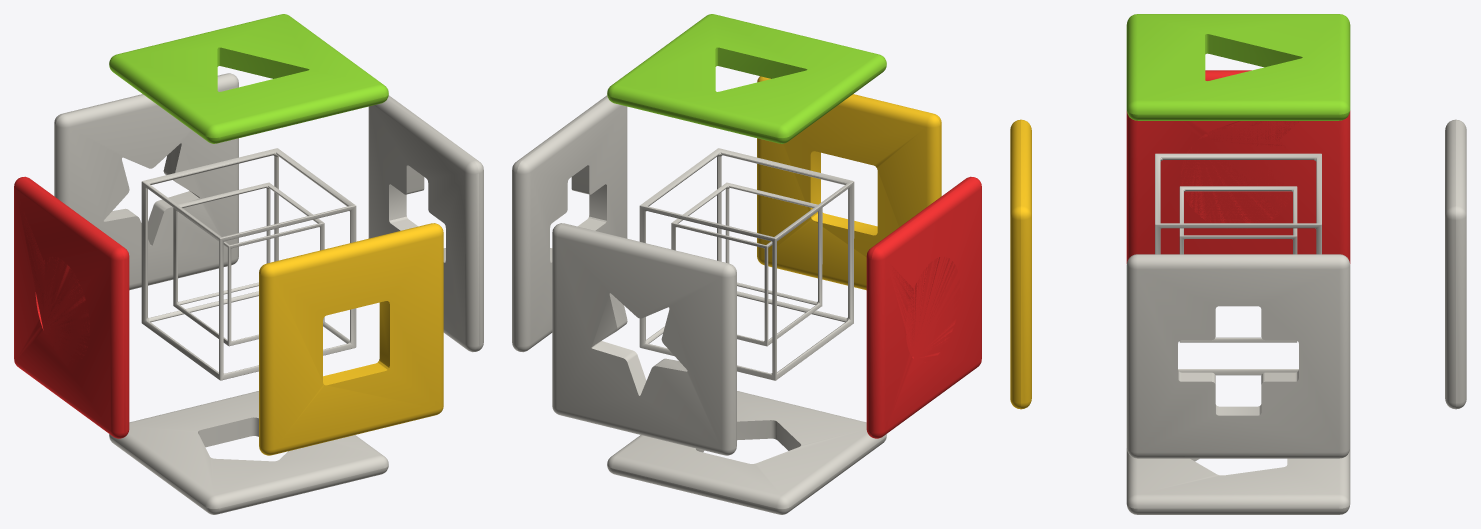
The model's file is Finalholowcube.fbx.
The picture shows the model from 3 angles, left to right: view 1: azimuth 30°, elevation 25°; view 2: azimuth 150°, elevation 25°; view 3: azimuth 270°, elevation 25°; orthographic projection. The views are drawn at different scales.
Visible parts, largest first — view 1: Panel_Yellow_Square, Panel_Red_Circle, Panel_Back_Star, Panel_Green_Triangle, Panel_Grey_Pentagon, Panel_Right_Cross, Inner_Framework, Inner_Frame_Secondary; view 2: Panel_Back_Star, Panel_Red_Circle, Panel_Green_Triangle, Panel_Yellow_Square, Panel_Grey_Pentagon, Panel_Right_Cross, Inner_Framework, Inner_Frame_Secondary; view 3: Panel_Right_Cross, Panel_Red_Circle, Panel_Green_Triangle, Panel_Grey_Pentagon, Panel_Yellow_Square, Panel_Back_Star, Inner_Framework, Inner_Frame_Secondary.
Boxes of the visible parts, box(x1,y1,x2,y2) form: Panel_Yellow_Square: box(259, 223, 443, 455); Panel_Red_Circle: box(14, 176, 129, 438); Panel_Back_Star: box(54, 73, 238, 290); Panel_Green_Triangle: box(109, 14, 388, 143); Panel_Grey_Pentagon: box(109, 391, 388, 514); Panel_Right_Cross: box(368, 95, 483, 352); Inner_Framework: box(141, 148, 356, 380); Inner_Frame_Secondary: box(173, 182, 324, 346); Panel_Back_Star: box(552, 223, 736, 455); Panel_Red_Circle: box(866, 176, 981, 438); Panel_Green_Triangle: box(607, 14, 886, 143); Panel_Yellow_Square: box(757, 76, 941, 290); Panel_Grey_Pentagon: box(607, 391, 886, 514); Panel_Right_Cross: box(512, 95, 627, 352); Inner_Framework: box(639, 148, 854, 380); Inner_Frame_Secondary: box(671, 182, 822, 346); Panel_Right_Cross: box(1126, 254, 1350, 458); Panel_Red_Circle: box(1126, 70, 1350, 263); Panel_Green_Triangle: box(1126, 14, 1350, 120); Panel_Grey_Pentagon: box(1126, 448, 1350, 514); Panel_Yellow_Square: box(1010, 119, 1031, 409); Panel_Back_Star: box(1445, 119, 1466, 409); Inner_Framework: box(1155, 153, 1321, 375); Inner_Frame_Secondary: box(1179, 186, 1297, 342).
Bounding box in the file's own units: 378 × 378 × 378.
